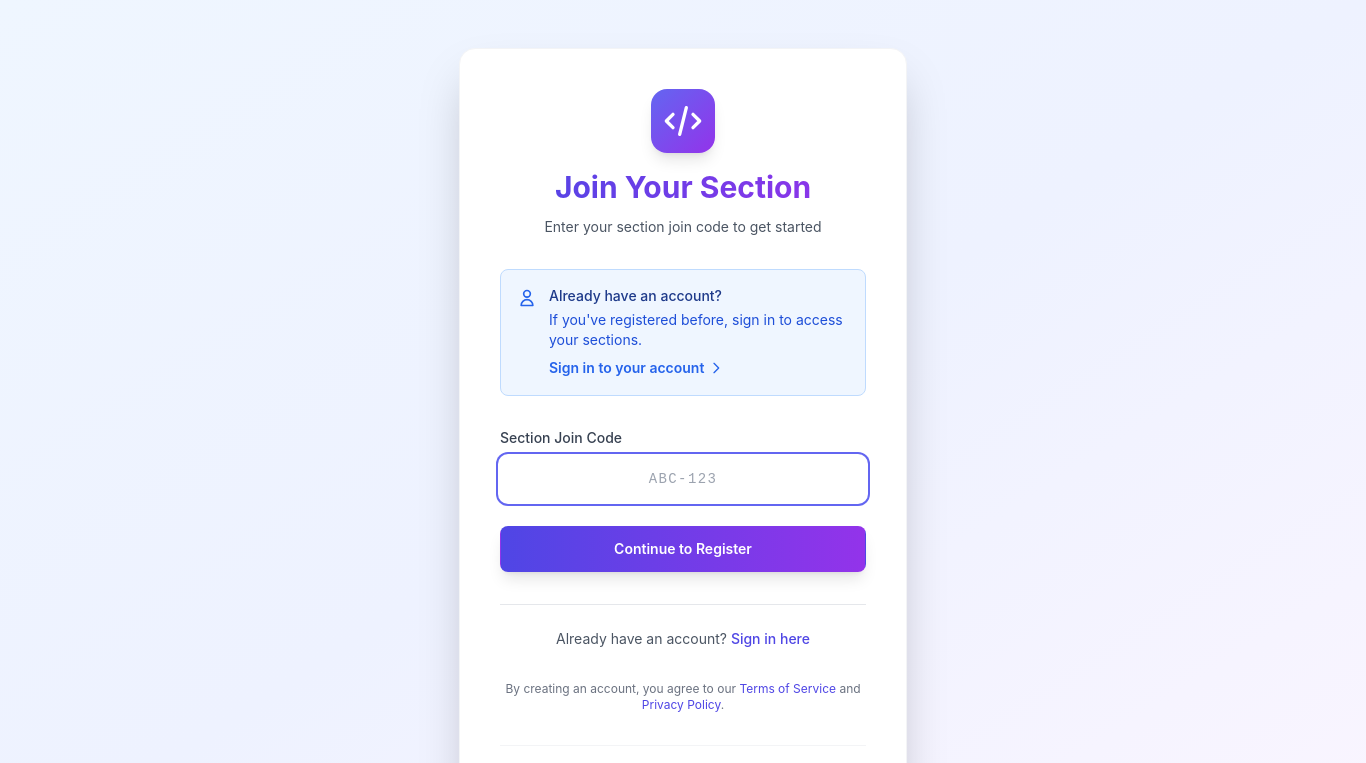
it: StudentRegistrationPage › Code Validation › shows loading state during validation
The image size is (1366, 763).
Type "ABC123" into the field with placeholder "ABC-123" at (683, 479), box [500,456,866,502]
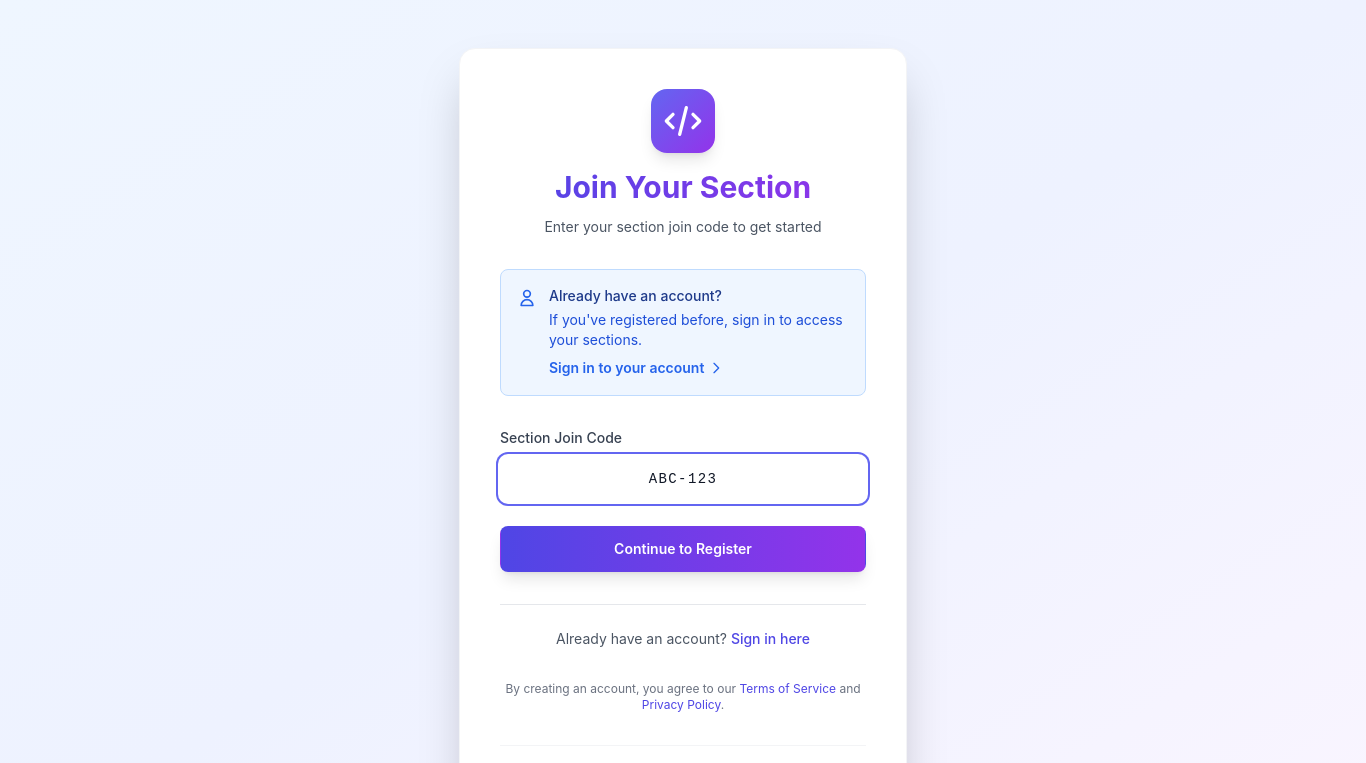
Click the button "Continue to Register" at (683, 549), box [500,526,866,572]
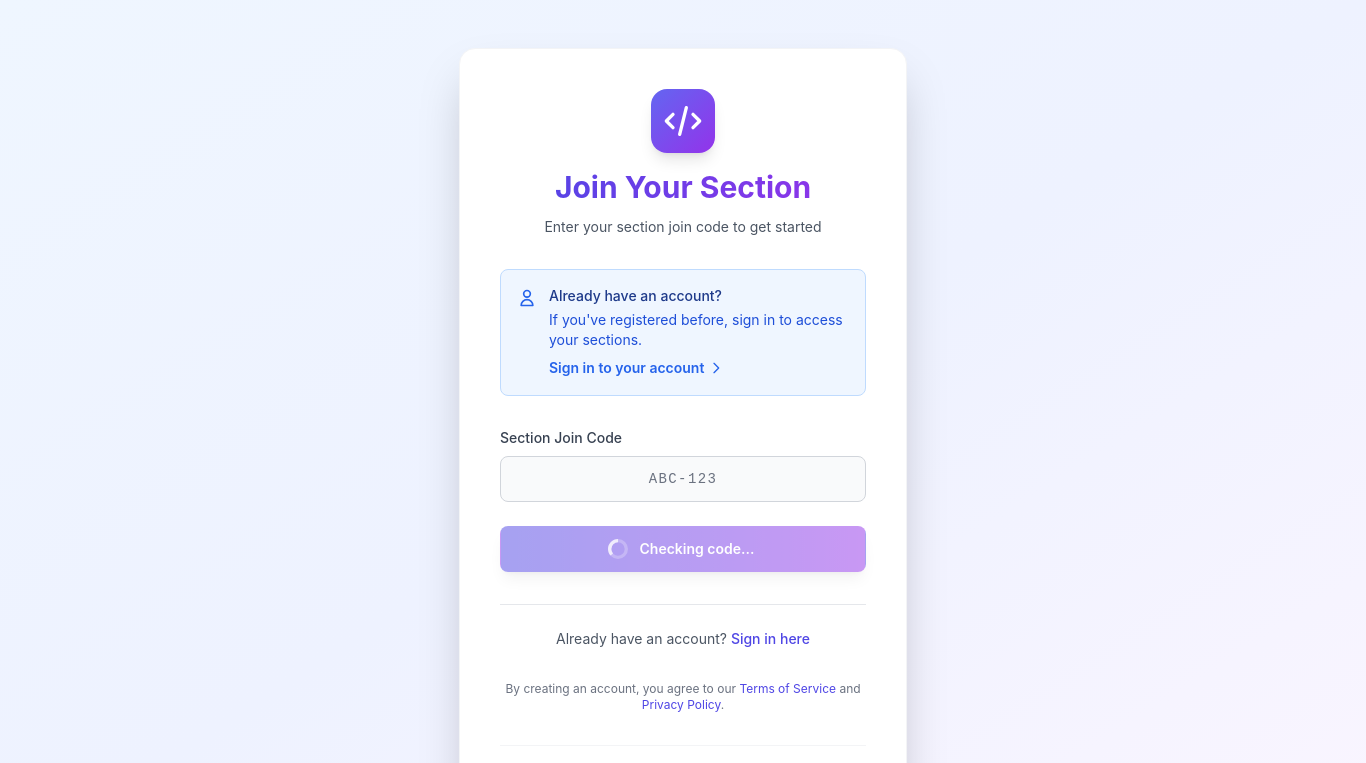
Expected: the button "Checking code..." is shown, [500,526,866,572]
